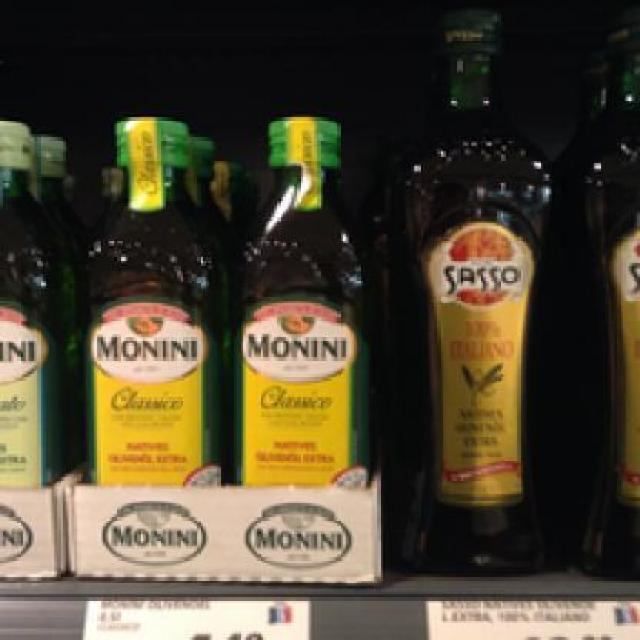Oil: (394, 9, 554, 568), (219, 106, 372, 480), (72, 114, 222, 480)
